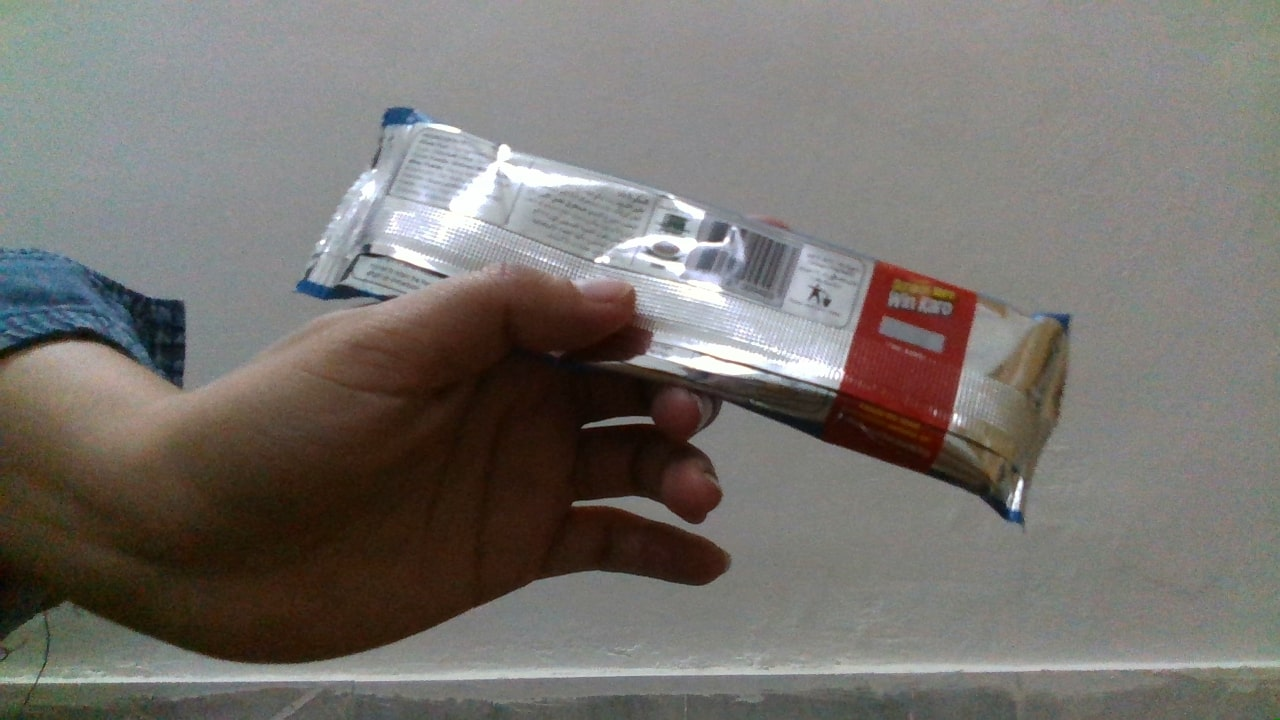Barcode: (694, 219, 798, 303)
